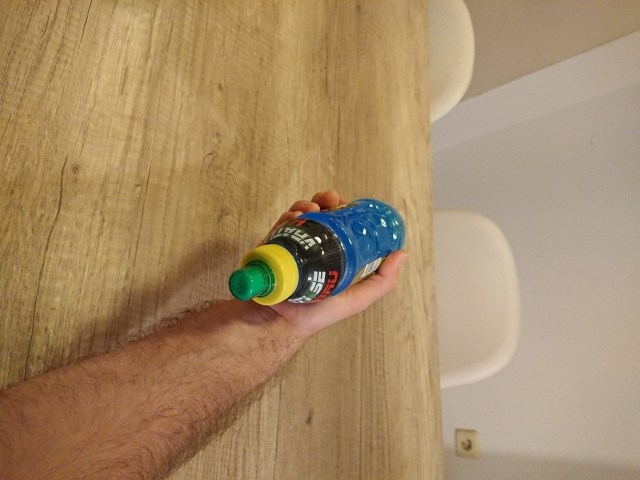Vindi Iso Sport Forest Strawberries 500mL: (226, 196, 408, 309)
